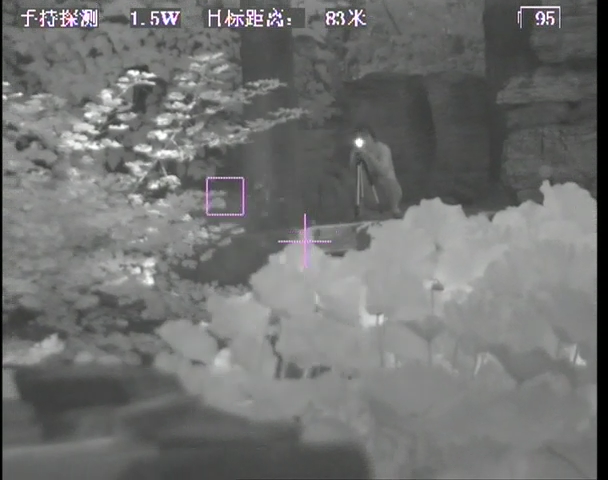my: (352, 136, 368, 150)
